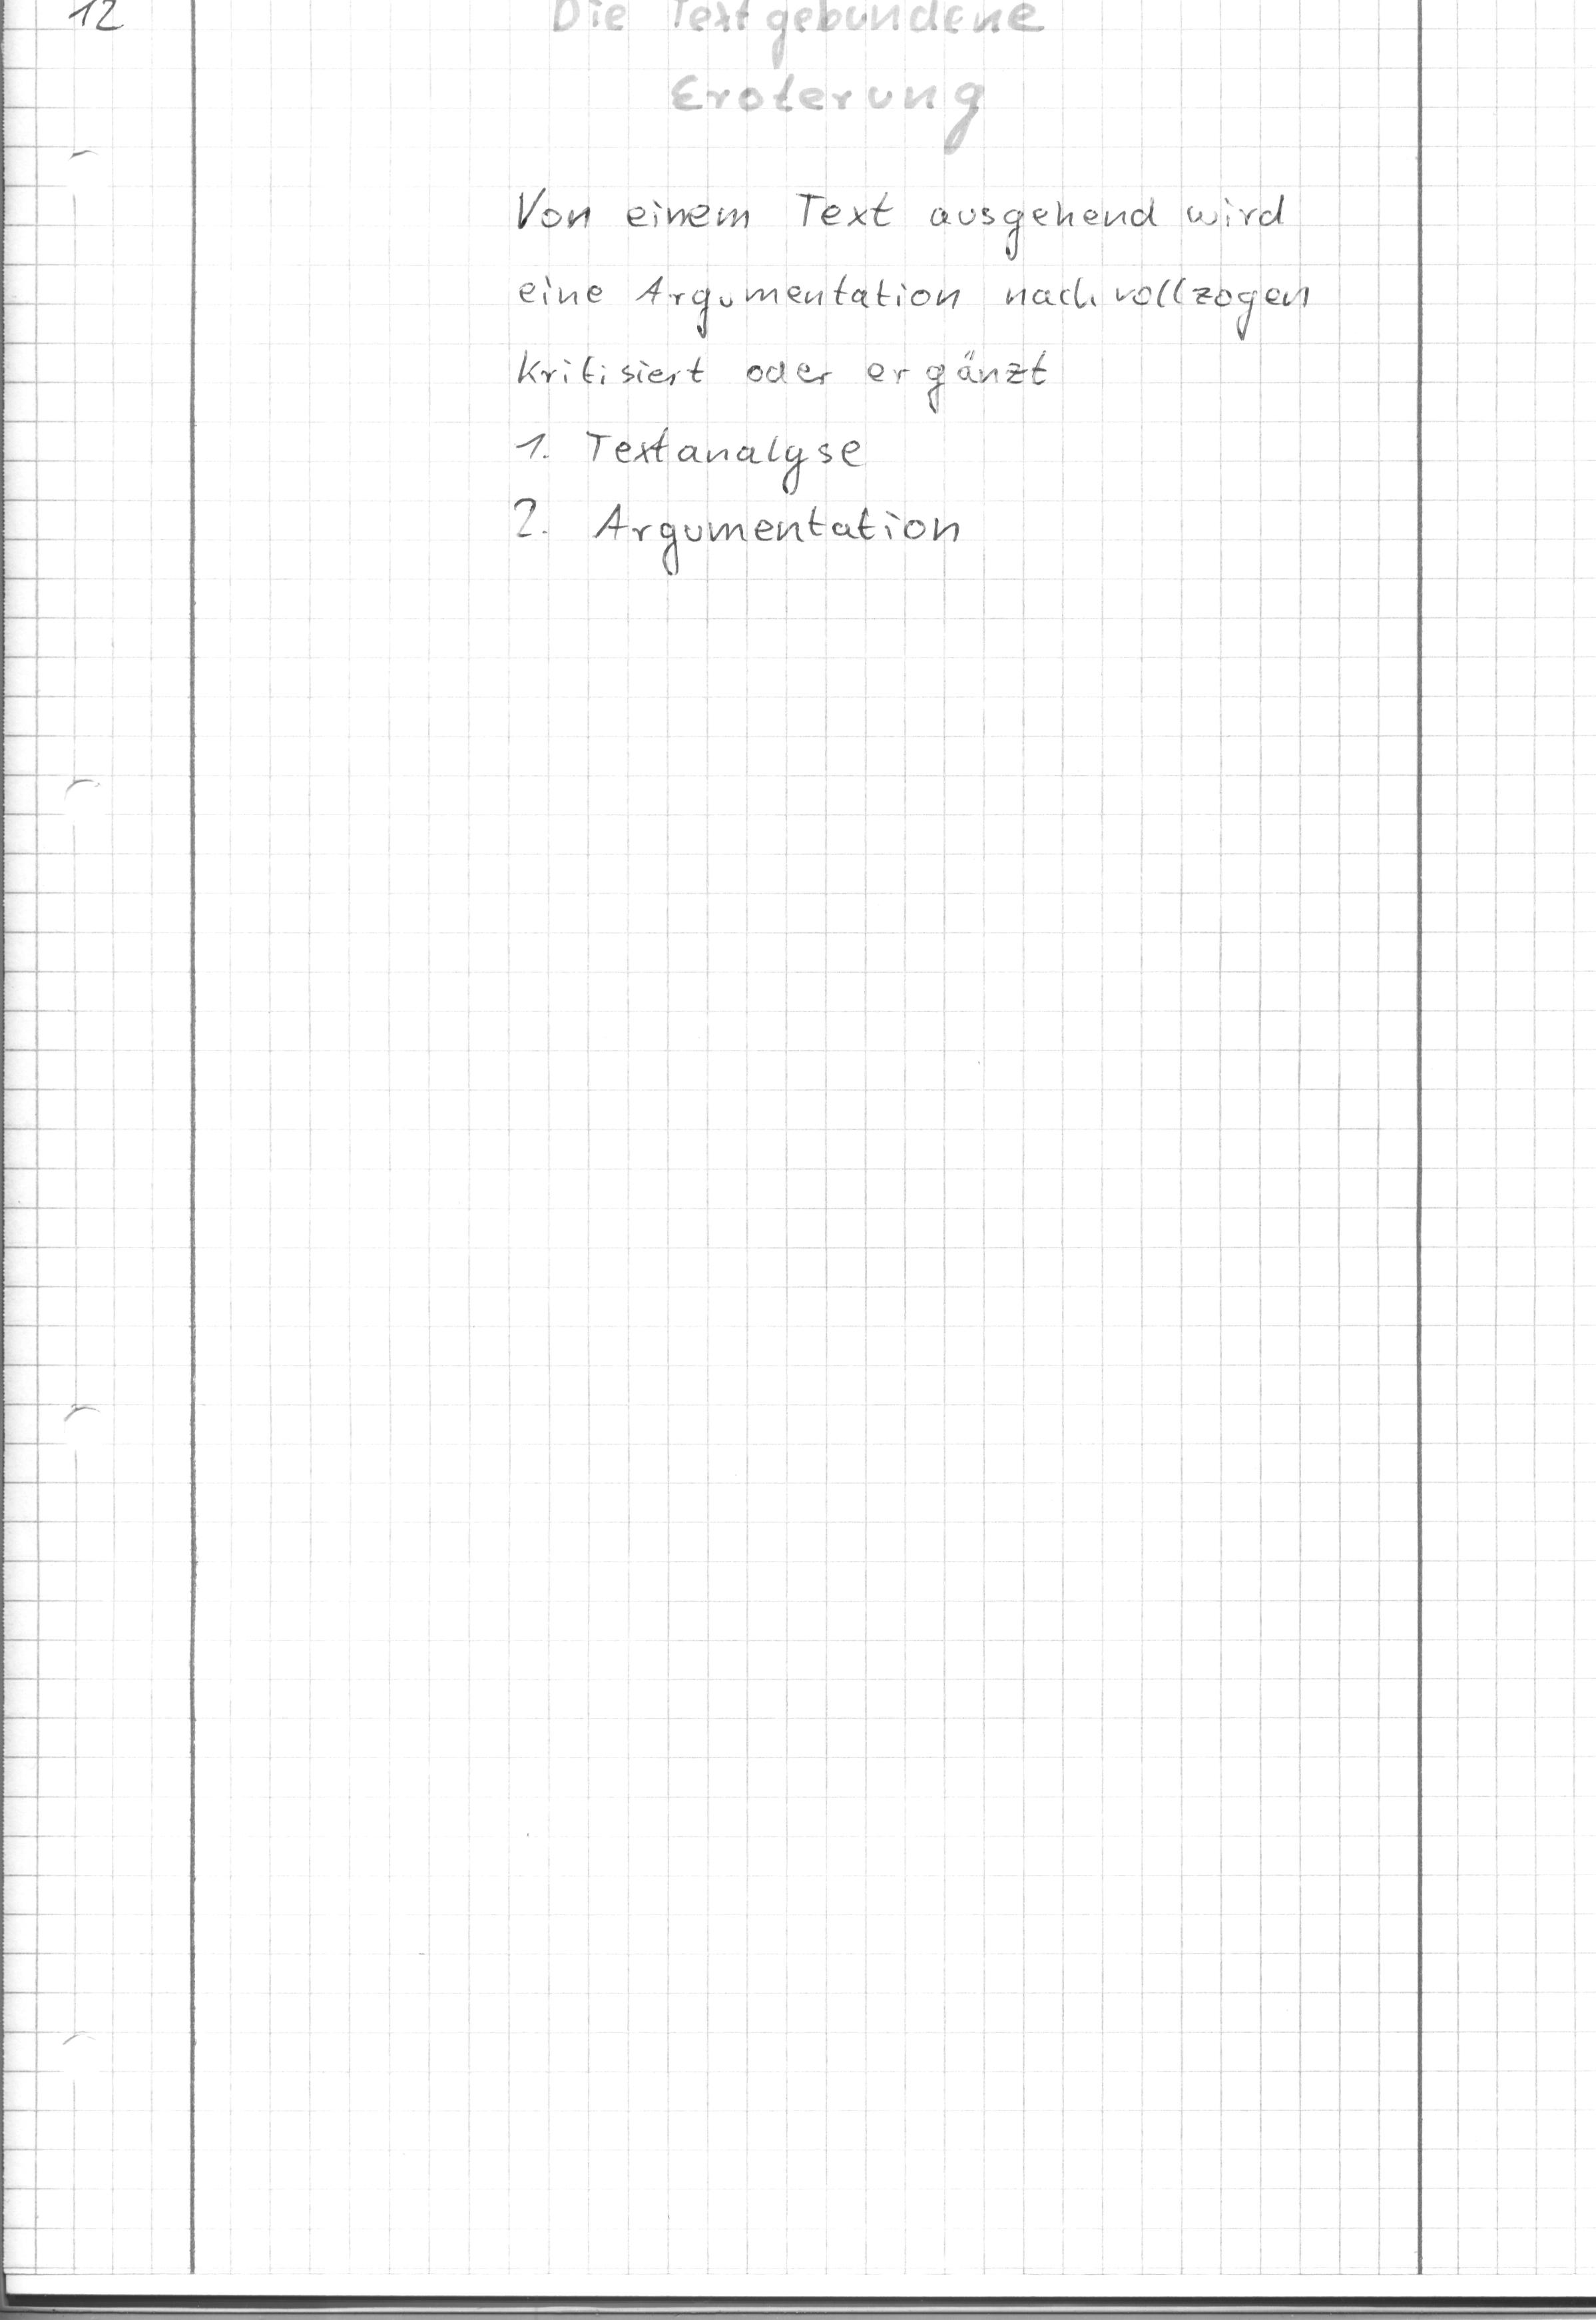word: (507, 178, 1291, 266), (515, 267, 1313, 346), (511, 495, 972, 591), (513, 342, 1053, 420), (509, 413, 875, 492)
